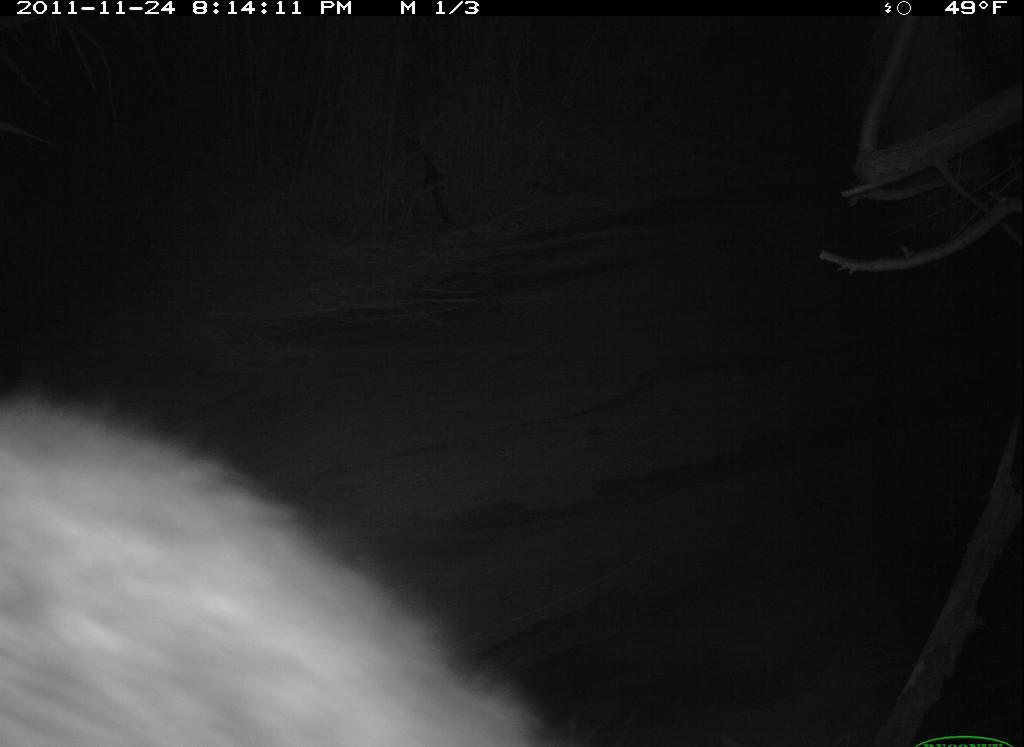raccoon: (2, 368, 614, 747)
